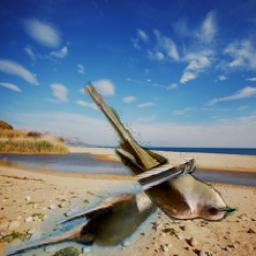Cuckoo: (84, 82, 239, 223), (3, 182, 179, 256)
